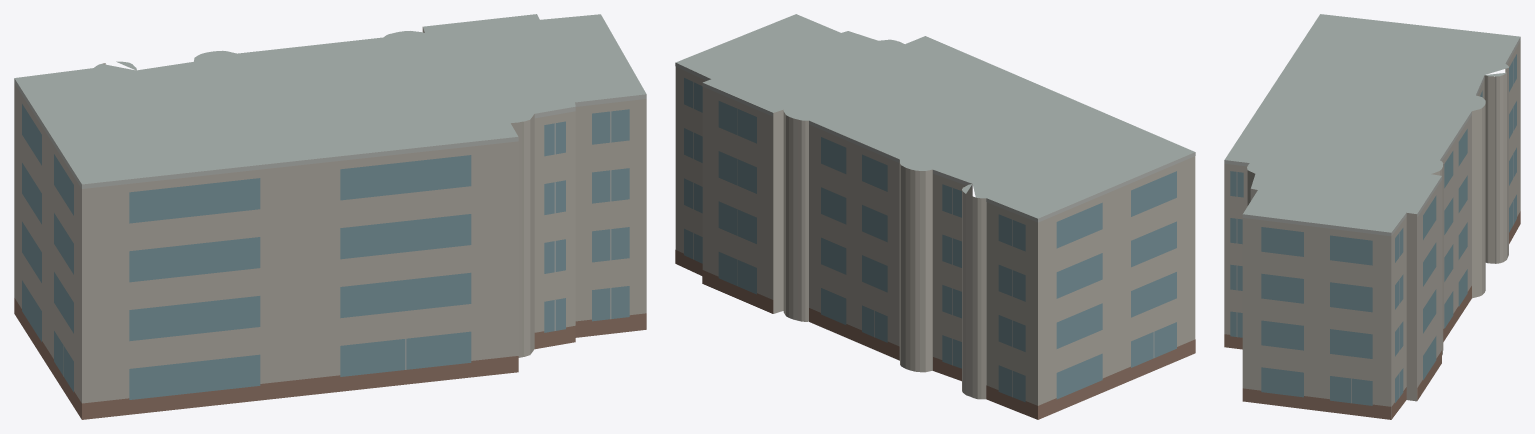
File: survey-upis-32740925.glb
The picture shows the model from 3 angles, left to right: view 1: azimuth 30°, elevation 25°; view 2: azimuth 150°, elevation 25°; view 3: azimuth 270°, elevation 25°; orthographic projection. The views are drawn at different scales.
Visible parts, largest first — view 1: survey-upis-32740925.tmp; view 2: survey-upis-32740925.tmp; view 3: survey-upis-32740925.tmp.
Boxes of the visible parts, x1=… form: survey-upis-32740925.tmp: x1=14, y1=14, x2=646, y2=419; survey-upis-32740925.tmp: x1=675, y1=14, x2=1195, y2=419; survey-upis-32740925.tmp: x1=1224, y1=14, x2=1520, y2=419.
Size of the model in its own units: 31.33 by 12.5 by 17.93.
